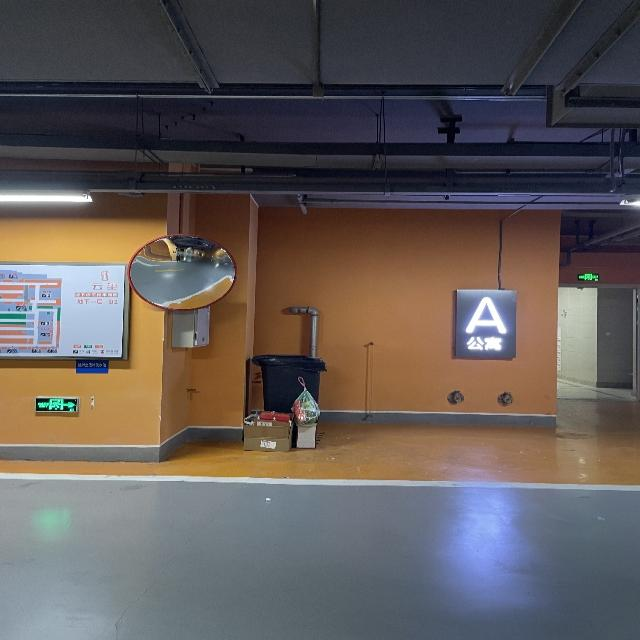garbage: (241, 375, 319, 451)
garbage_bin: (250, 354, 326, 412)
